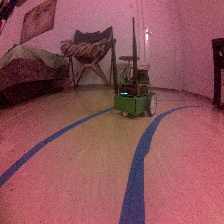rob: (112, 68, 157, 117)
